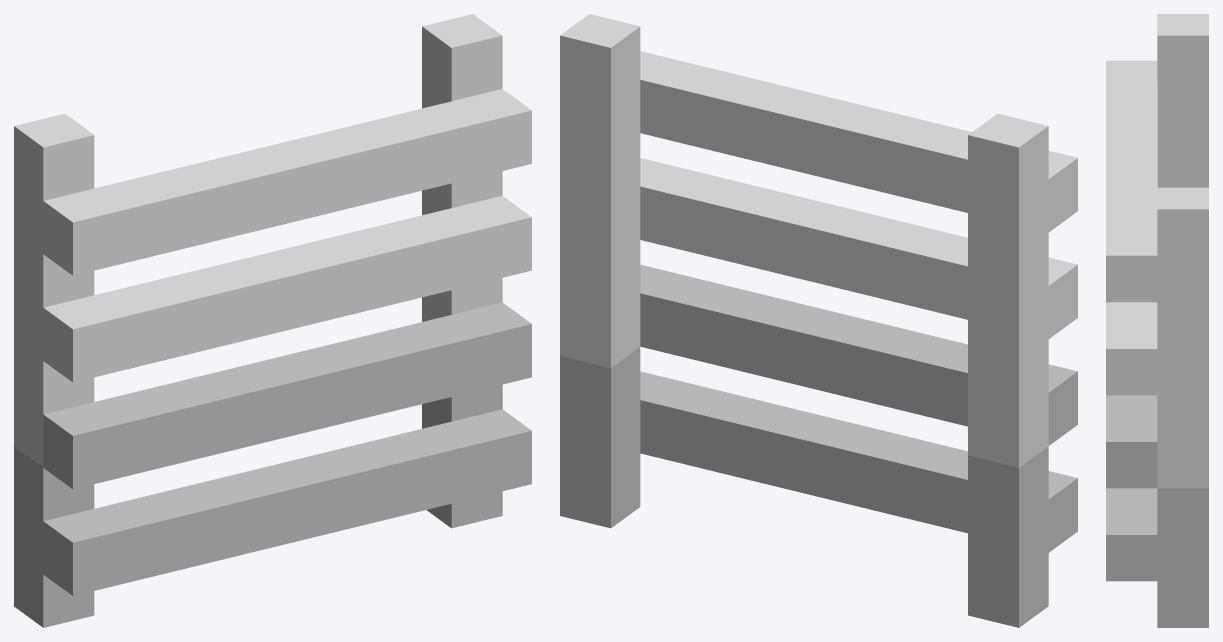
File: ConstructionMaterials-101.obj
3 renders of one model, left to right at view 1: azimuth 30°, elevation 25°; view 2: azimuth 150°, elevation 25°; view 3: azimuth 270°, elevation 25°, orthographic. The views are drawn at different scales.
Bounding box in the file's own units: 0.9 × 0.9 × 0.2.
Materials: 1 (1 with a texture image).
